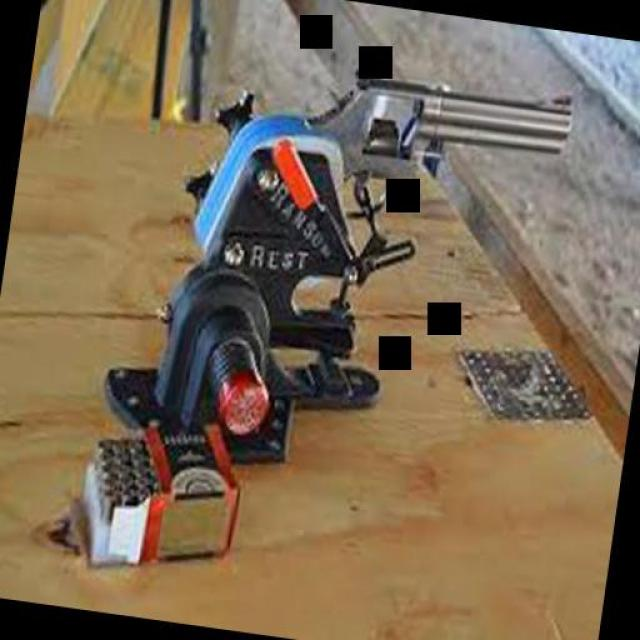gun: (220, 52, 584, 268)
